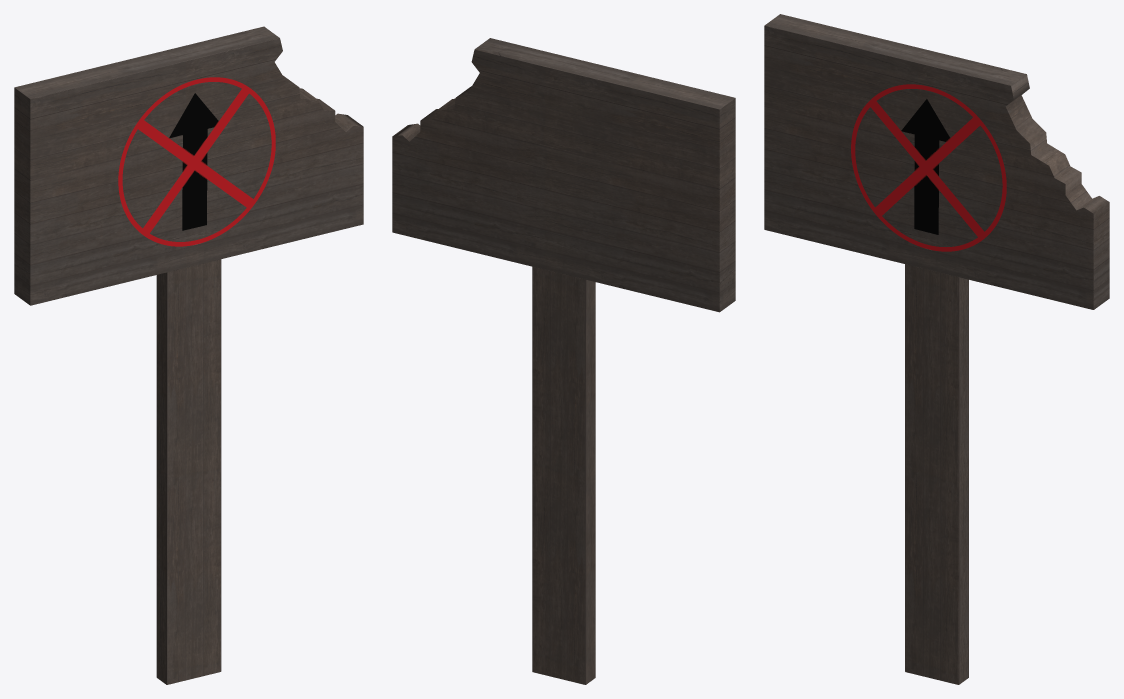
File: SM_ProibidoPassar.fbx
3 views of the same model, side by side, from view 1: azimuth 30°, elevation 25°; view 2: azimuth 150°, elevation 25°; view 3: azimuth 330°, elevation 25° (orthographic).
Parts seen in each view (by area): view 1: placa, decal; view 2: placa; view 3: placa, decal.
Boxes of the visible parts, x1,y1,x2,y2 form: placa: (14, 26, 363, 684); decal: (118, 77, 275, 246); placa: (392, 38, 735, 684); placa: (764, 14, 1109, 684); decal: (851, 84, 1006, 251).
Size of the model in its own units: 129 by 236 by 10.86.
